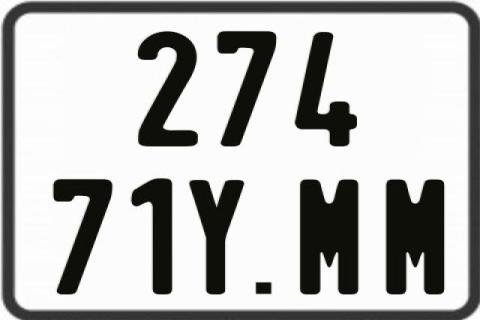0: (215, 31, 280, 148), (293, 32, 357, 150), (51, 178, 113, 298), (135, 30, 195, 146), (128, 177, 170, 293)
M: (300, 179, 362, 295), (384, 177, 442, 292)
Y: (186, 180, 244, 298)
